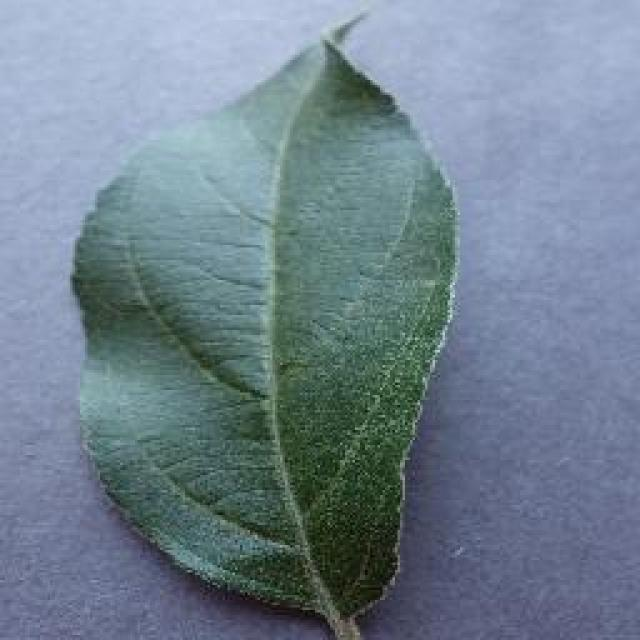apple healthy: (68, 0, 462, 638)
